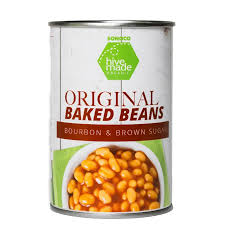can: (45, 16, 179, 218)
